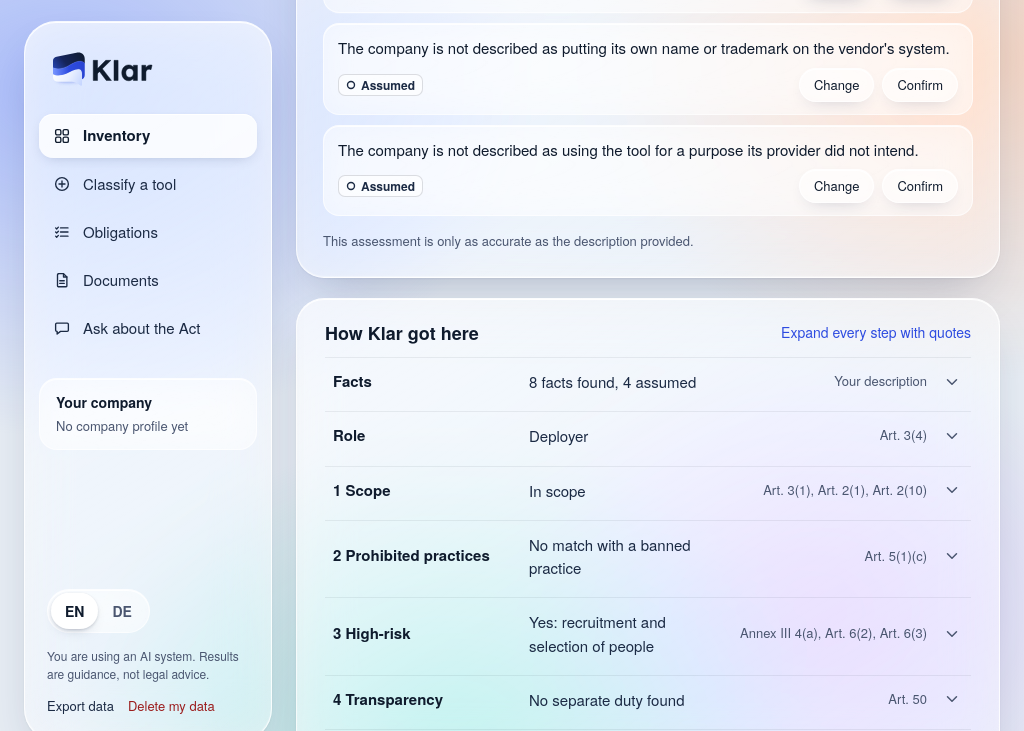
the result at 390 px › opens a step when its row is tapped
The width and height of the screenshot is (1024, 731).
(page scrolled)
Click the button "Facts 8 facts found, 4 assumed Your description": (648, 382) x1=325 y1=358 x2=971 y2=405
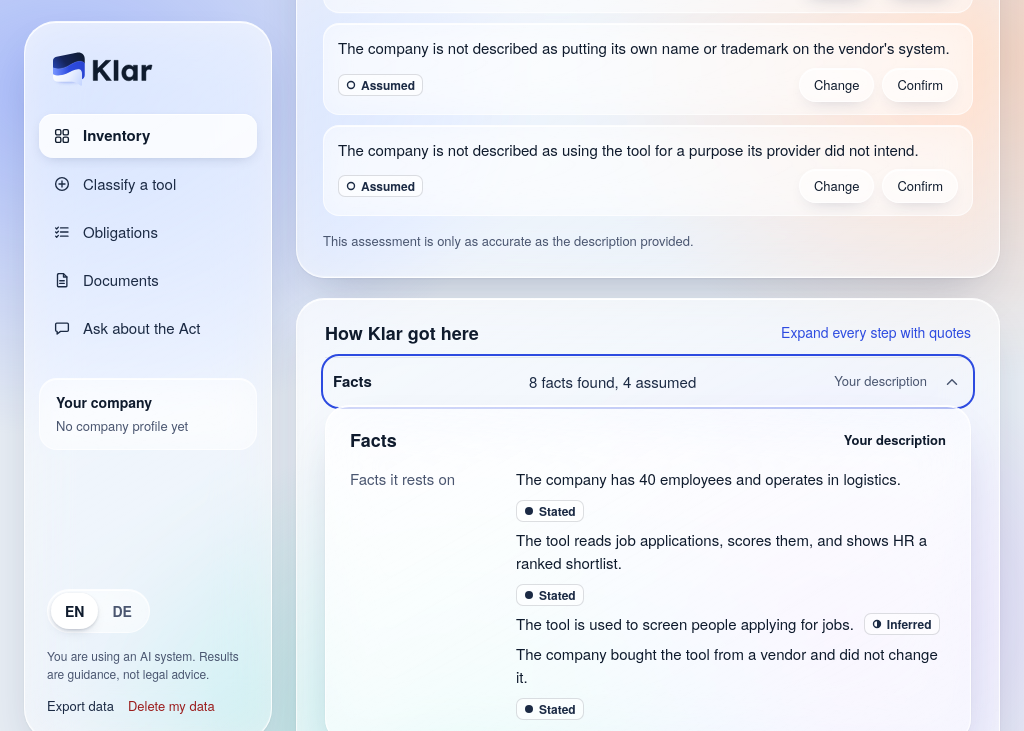
Expected: the button "Facts 8 facts found, 4 assumed Your description" is expanded, x1=325 y1=358 x2=971 y2=405
